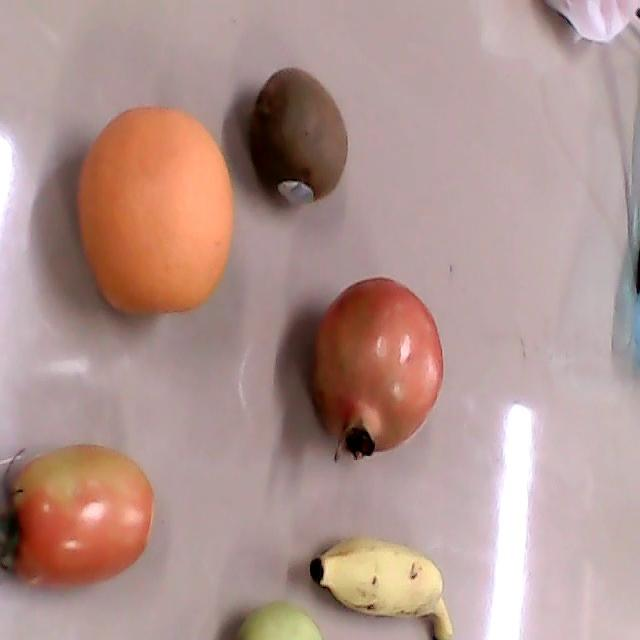kiwi: (247, 68, 348, 206)
lemon: (236, 601, 321, 639)
orange: (76, 104, 231, 312)
pomegranate: (305, 278, 444, 462)
tomato: (1, 444, 152, 587)
